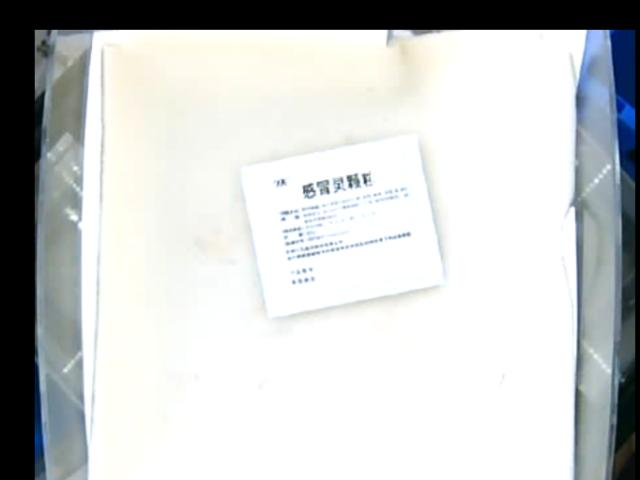Medicine: (234, 137, 444, 323)
